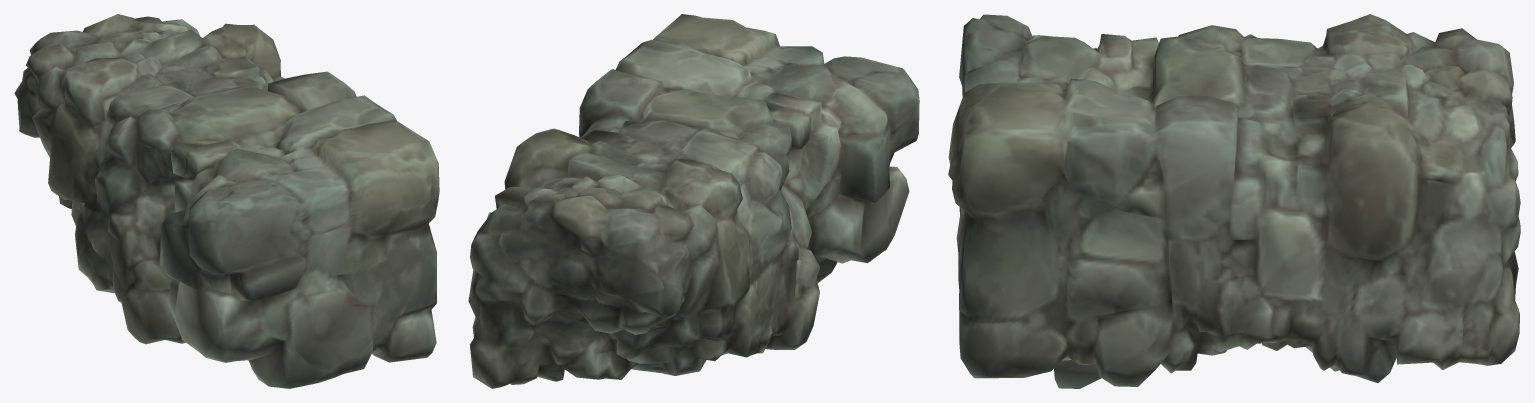
The model's file is Wall_Cnr_A.fbx.
3 renders of one model, left to right at view 1: azimuth 30°, elevation 25°; view 2: azimuth 150°, elevation 25°; view 3: azimuth 270°, elevation 25°, orthographic. The views are drawn at different scales.
Visible parts, largest first — view 1: Wall_Cnr_A; view 2: Wall_Cnr_A; view 3: Wall_Cnr_A.
Part boxes in pixels (left/top/right/bottom): Wall_Cnr_A: left=14, top=14, right=439, bottom=388; Wall_Cnr_A: left=468, top=14, right=919, bottom=388; Wall_Cnr_A: left=948, top=14, right=1520, bottom=388.
Size of the model in its own units: 489 by 470 by 821.
